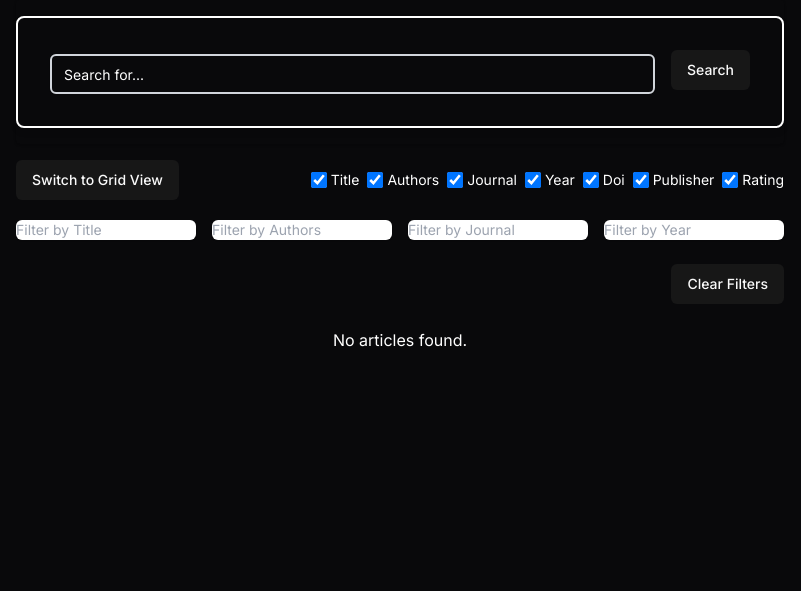
Test: SearchPage › toggles between grid and table view
Submit search
Type "test" into the field with placeholder "Search for...".
click(352, 74); type("test")  # box [50,54,655,94]
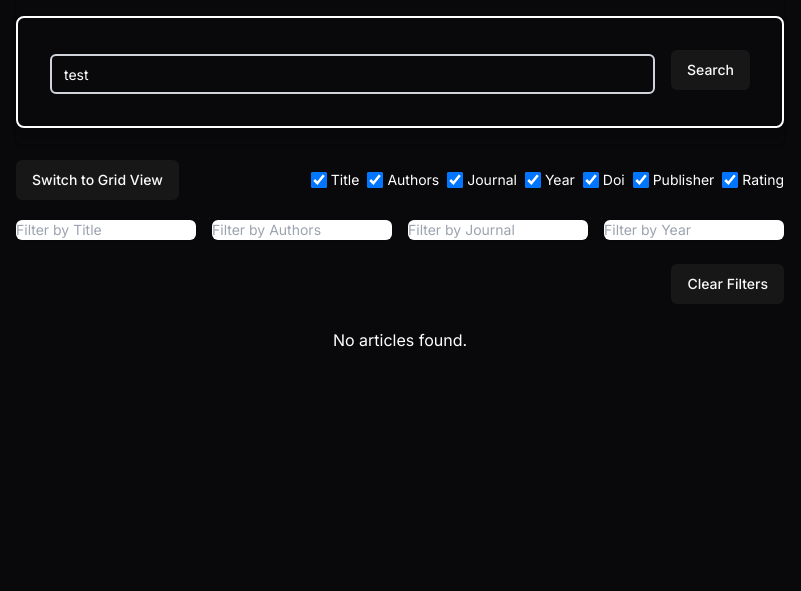
Click the button "Search".
click(710, 70)  # box [671,50,750,90]
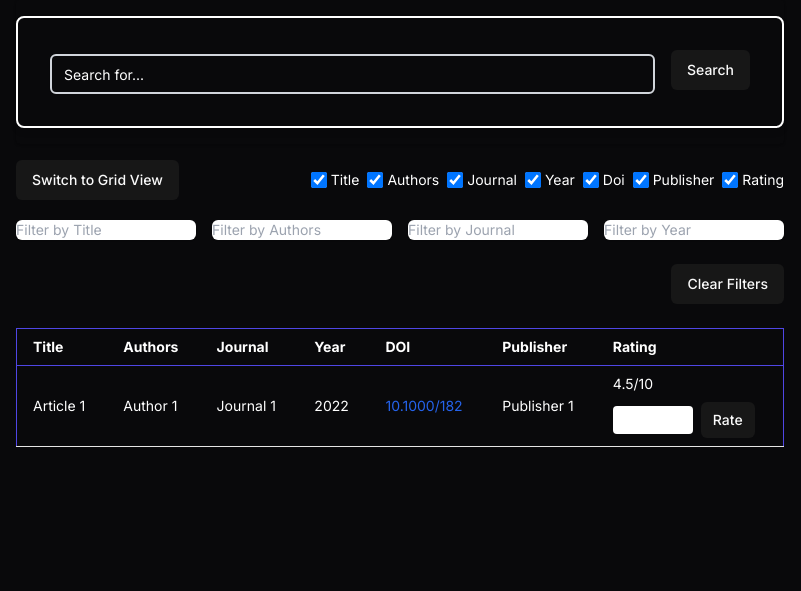
Expected: the text "Article 1" is shown, [16,366,107,446]
Expected: the table is shown, [16,328,784,447]
Toggle to grid view
Click the button "Switch to Grid View".
click(97, 180)  # box [16,160,179,200]
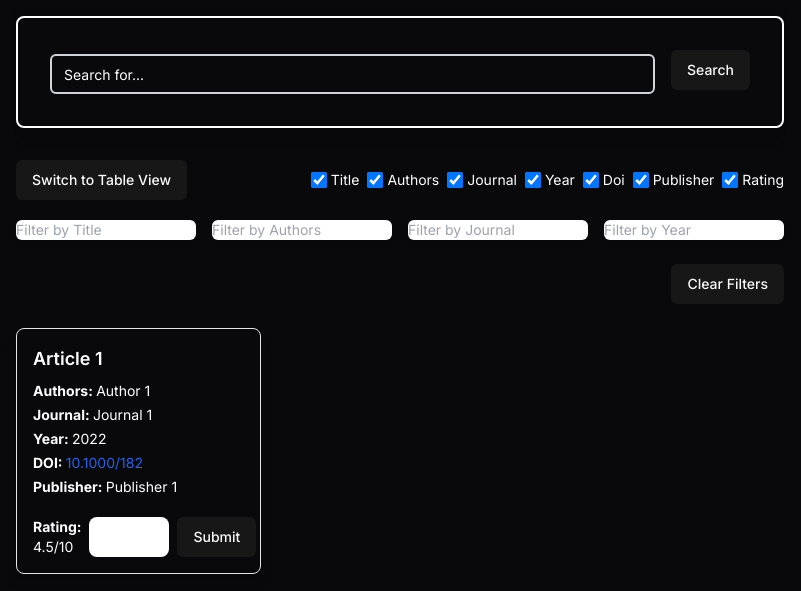
Expected: the heading "Article 1" is shown, [33,348,103,369]
Expected: the table is gone
